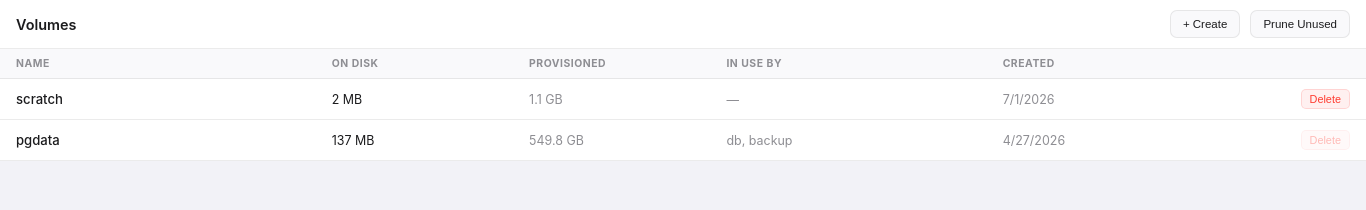
VolumesView › reports what pruning reclaimed
The width and height of the screenshot is (1366, 210).
What coordinates should you click on to do the following:
click the button "Prune Unused"
I would click on:
 (1300, 24)
Its box is [1250,10,1350,38].
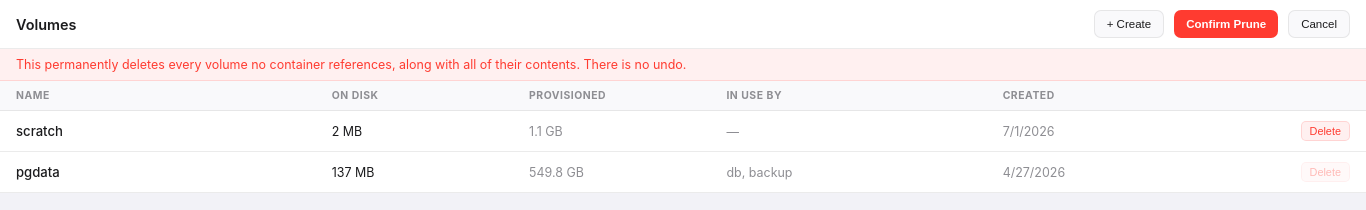
What coordinates should you click on to do the following:
click the button "Confirm Prune"
I would click on:
 (1226, 24)
Its box is [1174,10,1278,38].
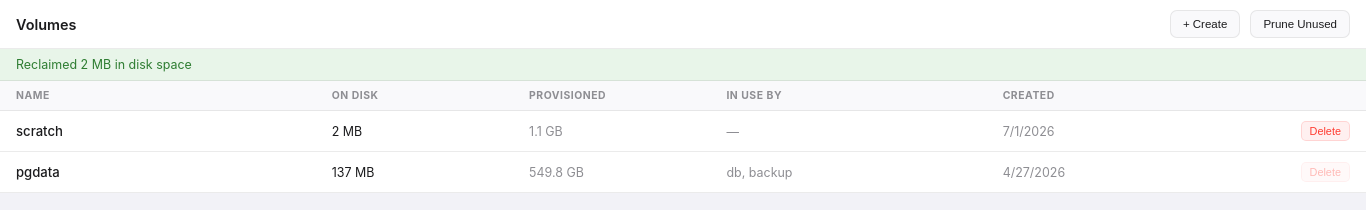
Check: the text "Reclaimed 2 MB in disk space" is shown, box [0,49,1365,81]
